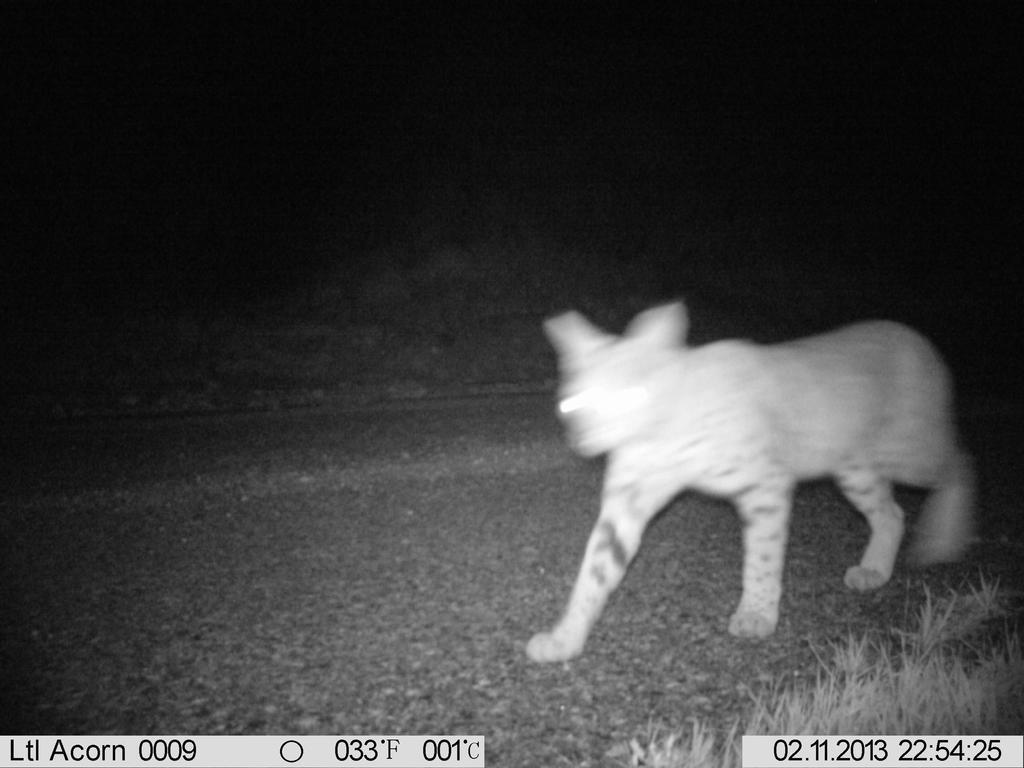bobcat: (521, 293, 991, 671)
